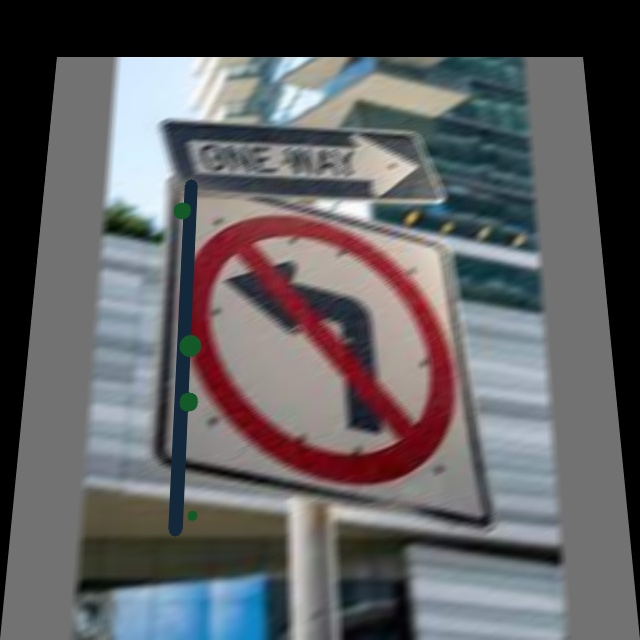Left_Turn_Prohibited: (170, 197, 468, 491)
